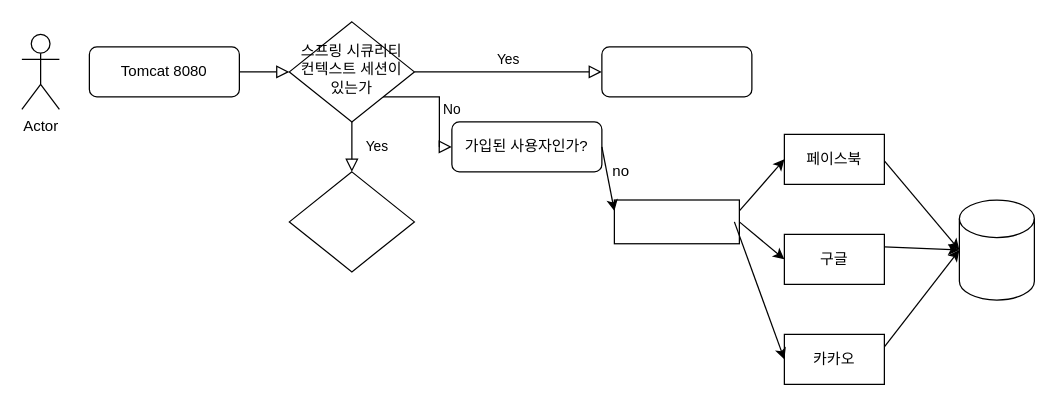
This 1056x406 diagram has some shape labels left out. Here are the shapes that lost their labels. From the top down, the centre of each, then its label:
pixel 676 71: 요청한 URL 접근
pixel 351 221: 스프링 세션 사용
pixel 676 221: 소셜에 따라 User 객체 생성
pixel 996 249: 사용자 지정
